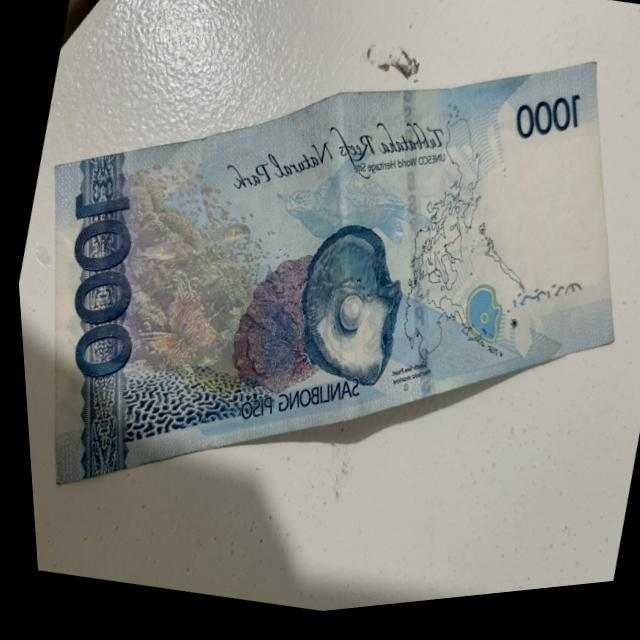1000_pearl: (274, 220, 413, 393)
1000_pearl_watermark: (438, 280, 510, 362)
